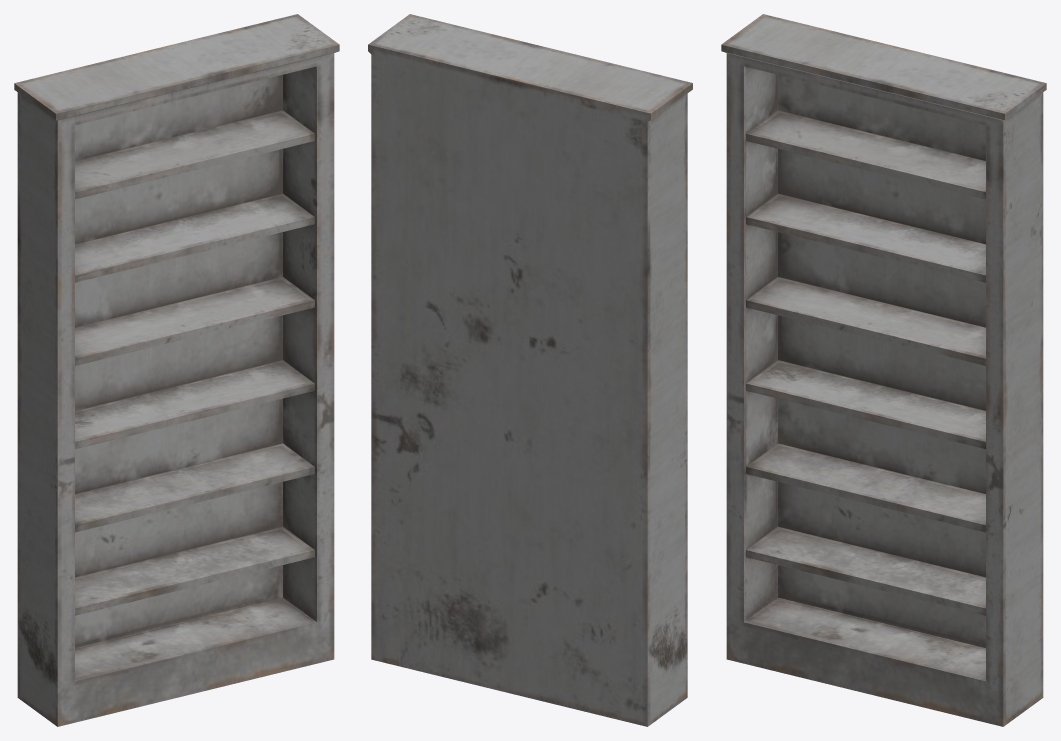
File: Shelf_01_1k.gltf
The picture shows the model from 3 angles, left to right: view 1: azimuth 30°, elevation 25°; view 2: azimuth 150°, elevation 25°; view 3: azimuth 330°, elevation 25°; orthographic projection.
Visible parts, largest first — view 1: Shelf_01; view 2: Shelf_01; view 3: Shelf_01.
Boxes of the visible parts, <box> form: Shelf_01: <box>14,14,339,726</box>; Shelf_01: <box>368,14,692,726</box>; Shelf_01: <box>721,14,1046,726</box>.
Size of the model in its own units: 1 by 2.08 by 0.257.
1 material, 1 textured.
